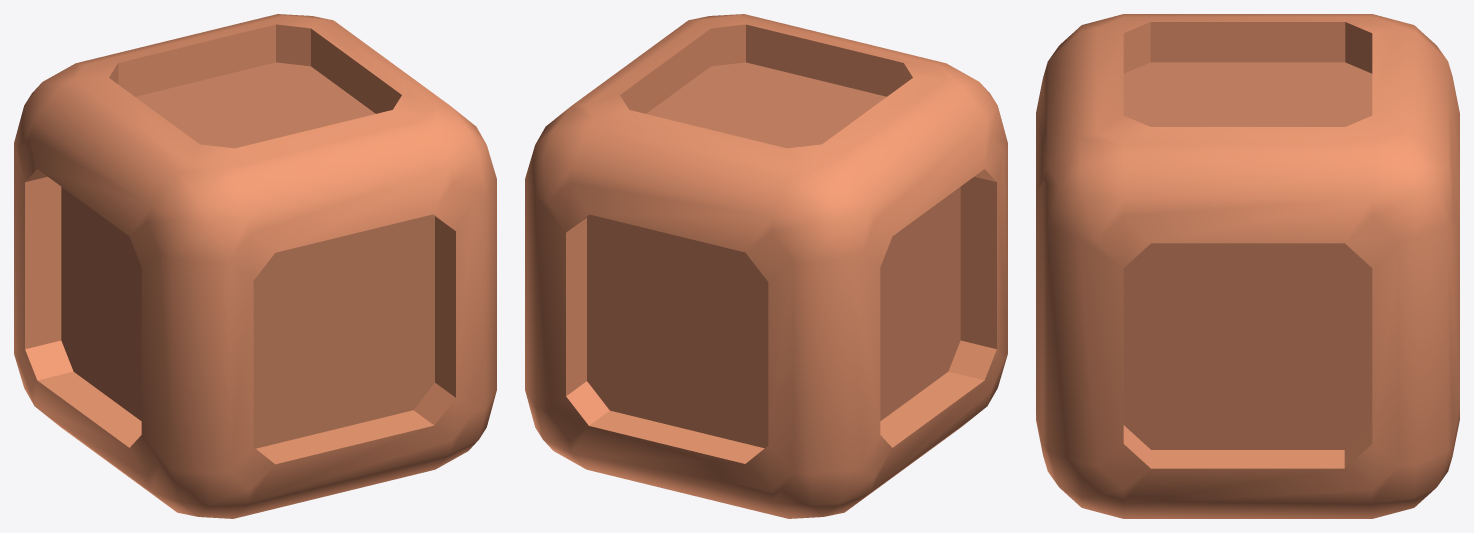
Rendered from Crate001.fbx.
3 views of the same model, side by side, from view 1: azimuth 30°, elevation 25°; view 2: azimuth 150°, elevation 25°; view 3: azimuth 270°, elevation 25° (orthographic). The views are drawn at different scales.
Visible parts, largest first — view 1: Crate001; view 2: Crate001; view 3: Crate001.
Boxes of the visible parts, x1,y1,x2,y2 form: Crate001: (14,14,496,518); Crate001: (525,14,1007,518); Crate001: (1036,14,1459,518).
Bounding box in the file's own units: 156 × 156 × 156.
